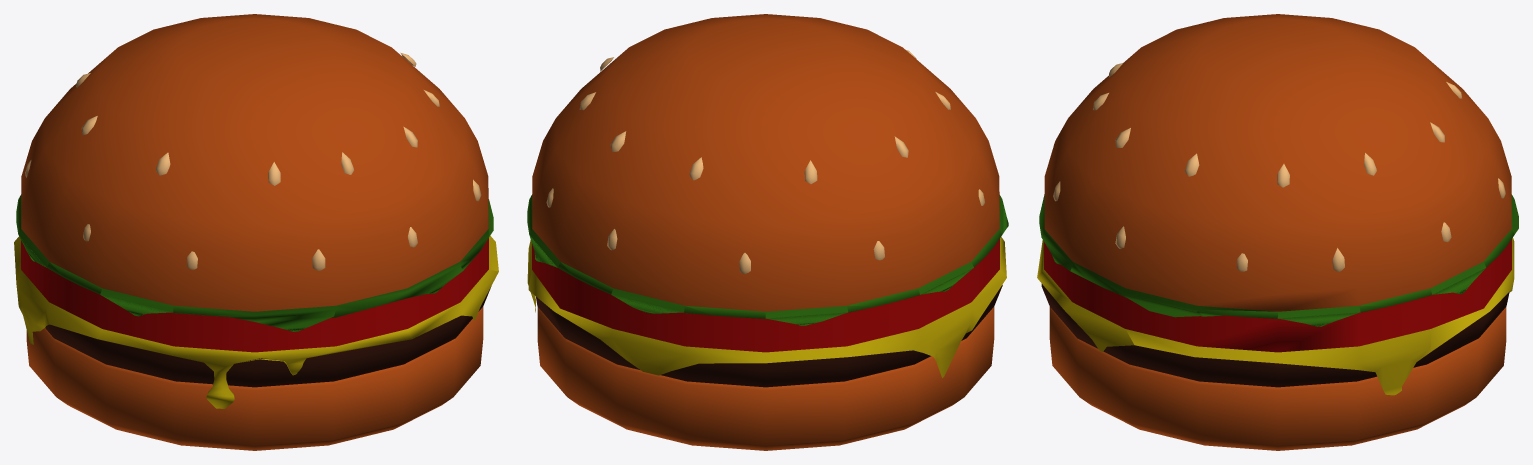
File: Burger 0.fbx
3 views of the same model, side by side, from view 1: azimuth 30°, elevation 25°; view 2: azimuth 150°, elevation 25°; view 3: azimuth 270°, elevation 25° (orthographic).
Visible parts, largest first — view 1: Cylinder001; view 2: Cylinder001; view 3: Cylinder001.
Part boxes in pixels (left/top/right/bottom): Cylinder001: left=14, top=14, right=498, bottom=450; Cylinder001: left=527, top=14, right=1008, bottom=450; Cylinder001: left=1037, top=14, right=1518, bottom=450.
Bounding box in the file's own units: 94.68 × 66.66 × 93.67.
